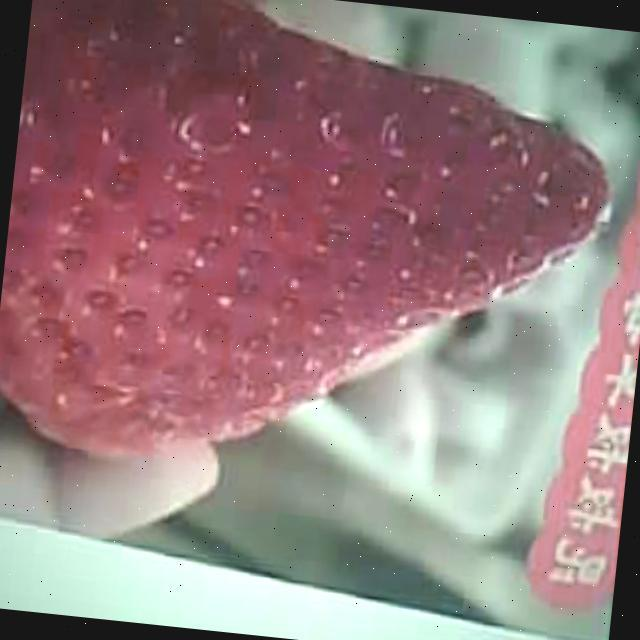ripe: (0, 0, 622, 498)
